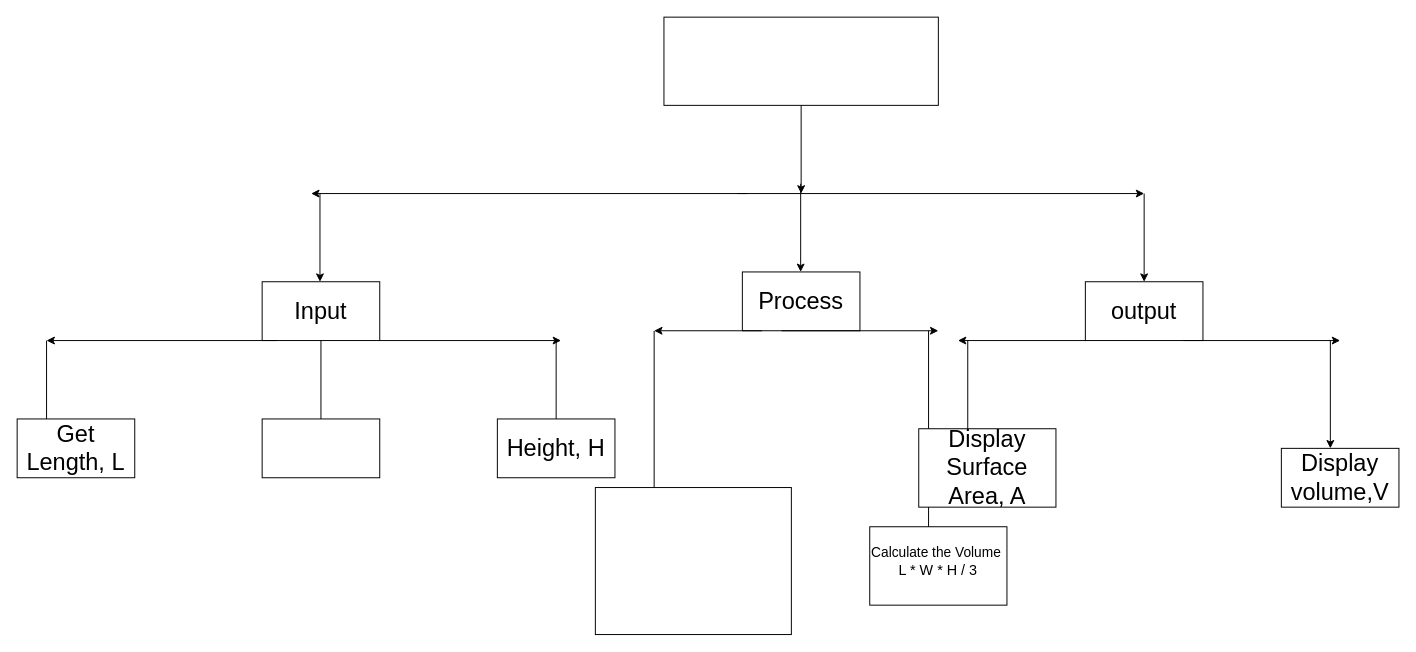
The diagram is 1416 pixels wide and 652 high, and some of its shapes have lost their labels. Each missing label, with the centre of its shape:
Calculate the Surface Area L*W+L √(W/2)^2 +H^2 + w √(L/2)^2 +h^2: [692,561]
Get Width, W: [320,448]
Surface area and volume of a rectangular pyramid: [800,60]
